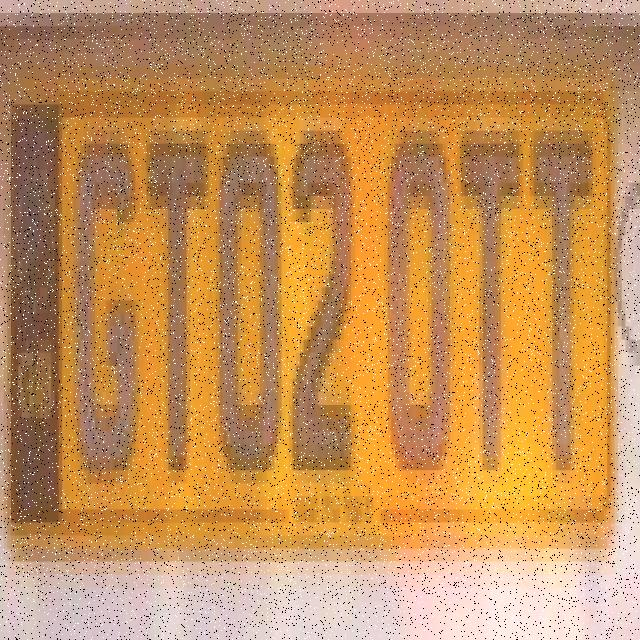licenseplate: (8, 54, 622, 580)
